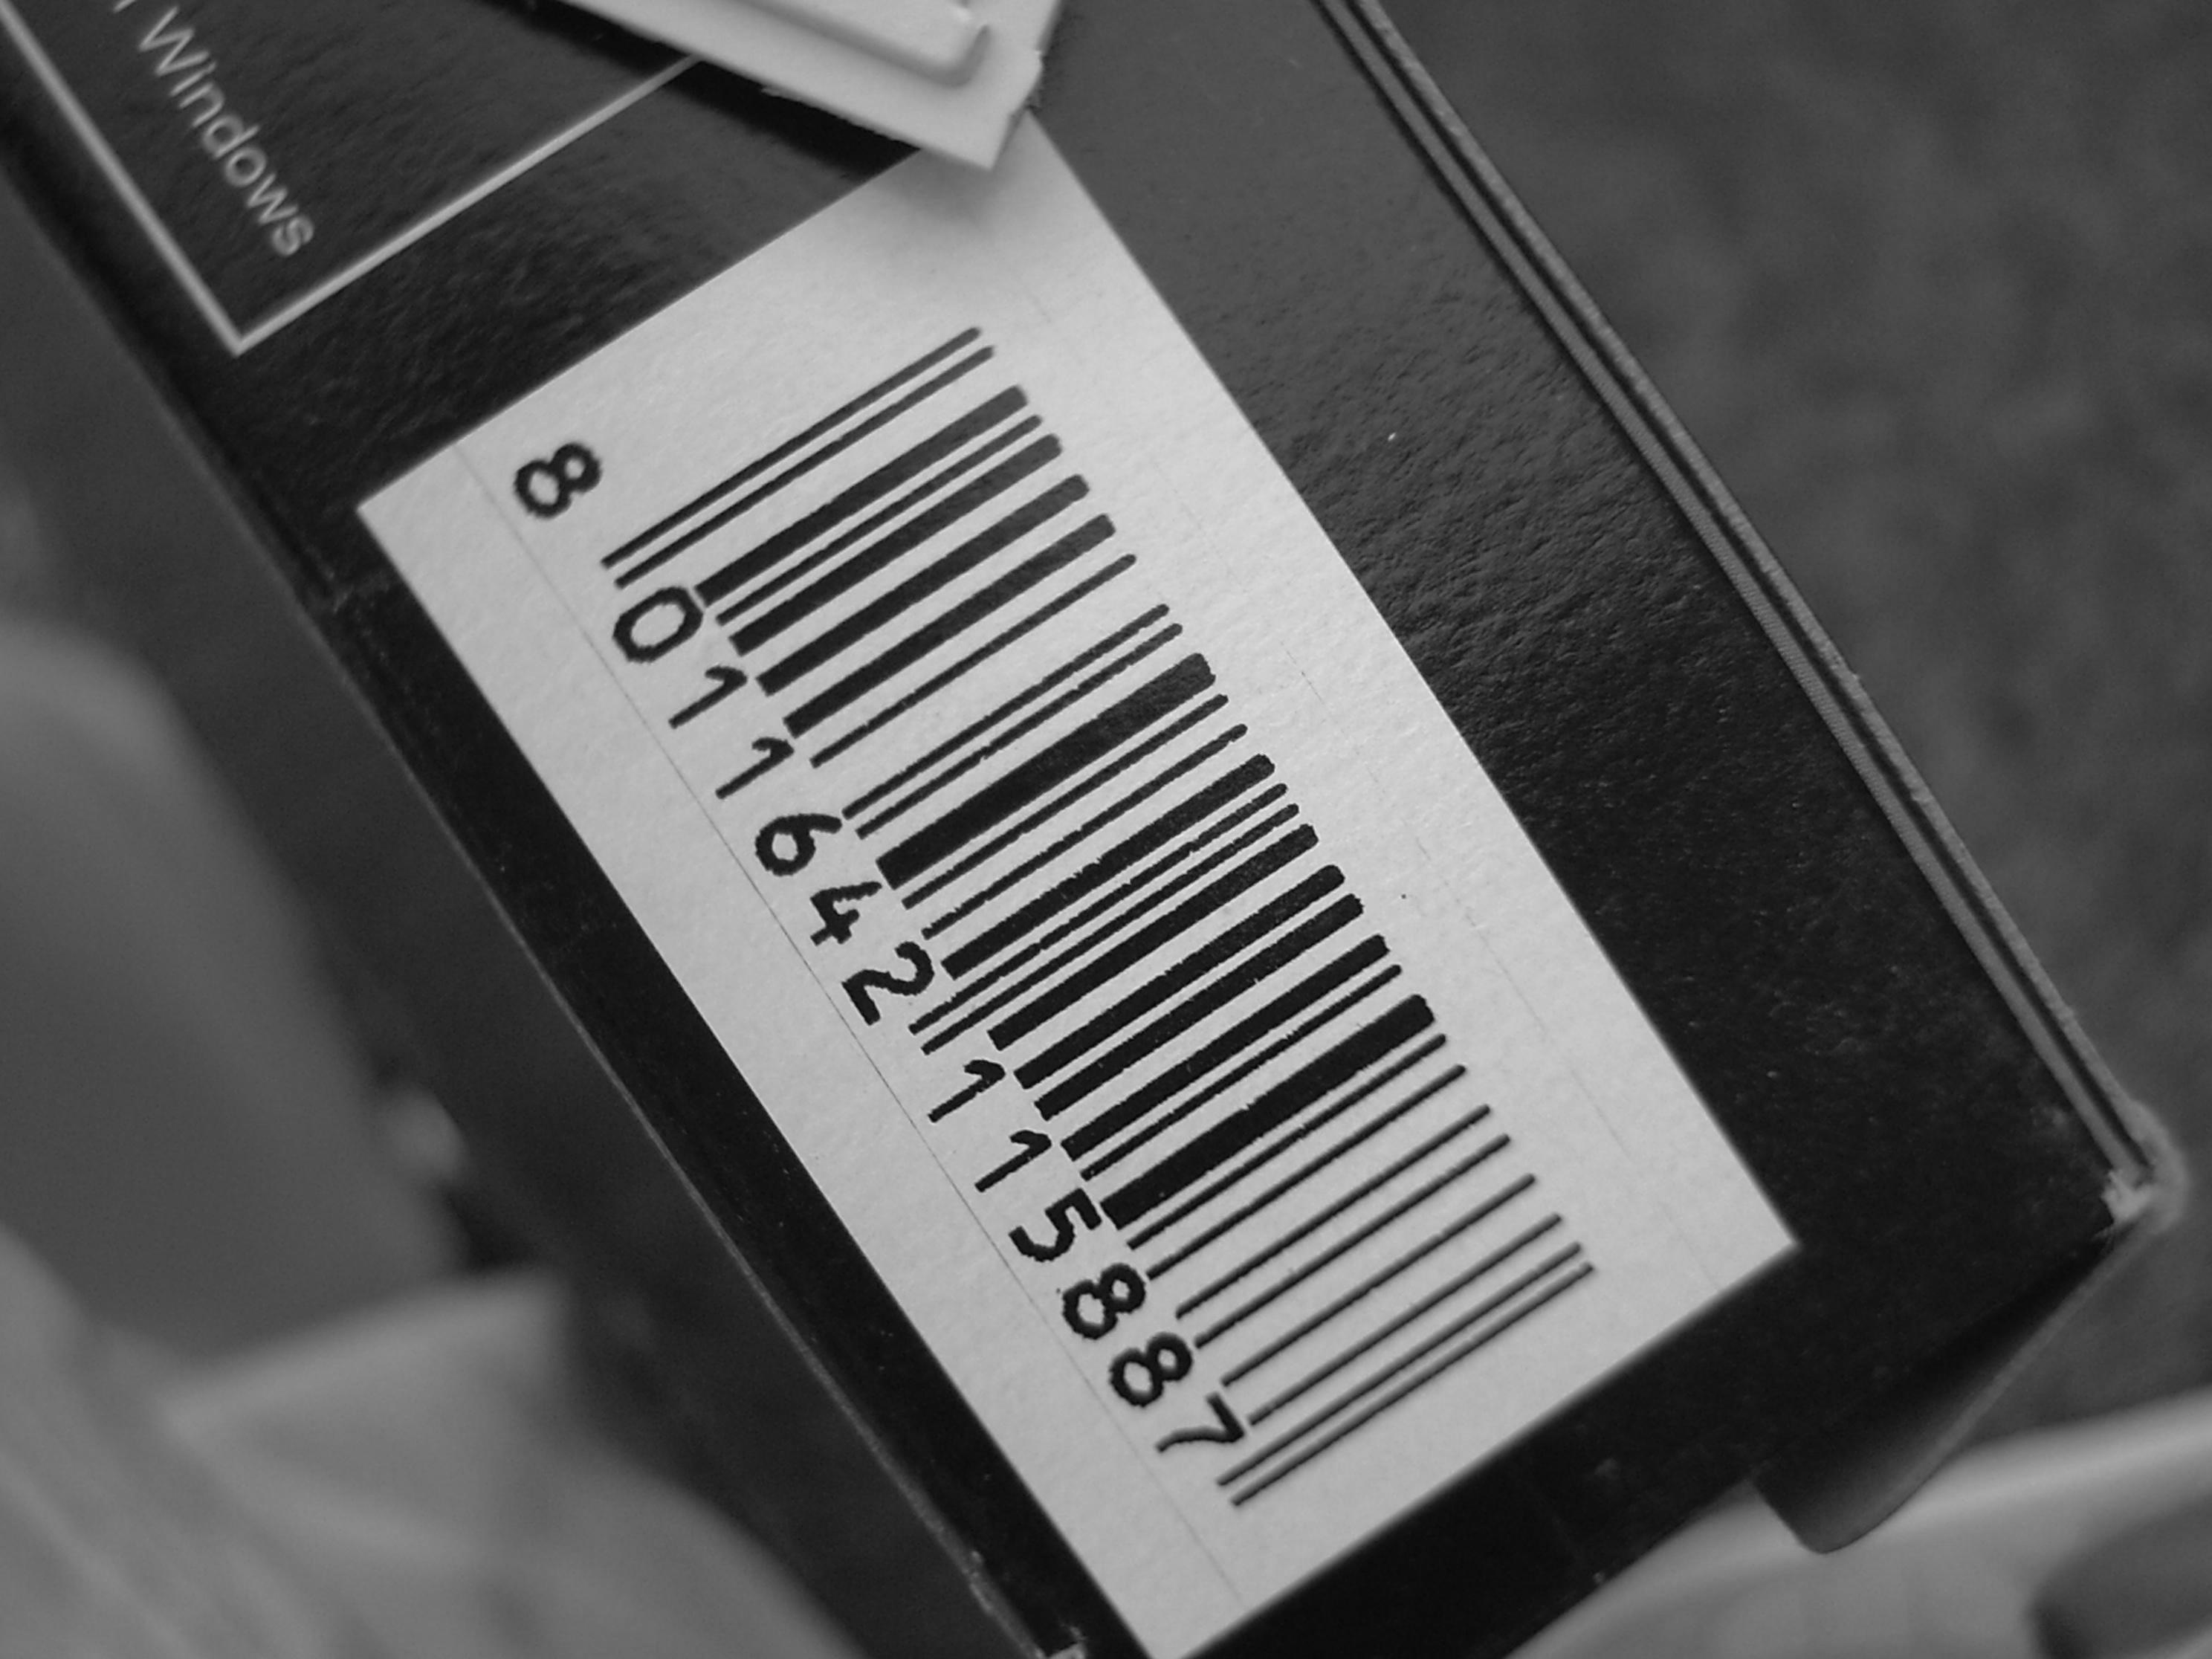Barcode: (549, 352, 1613, 1374)
